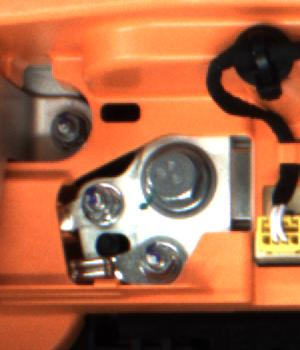nut_b: (131, 131, 225, 215)
screw_s: (135, 242, 180, 284), (78, 181, 118, 228), (45, 108, 82, 152)
